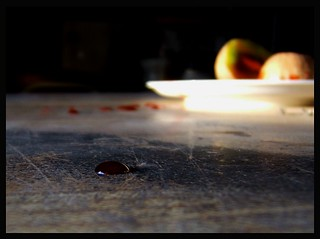blood: (35, 99, 163, 116), (91, 154, 135, 180)
